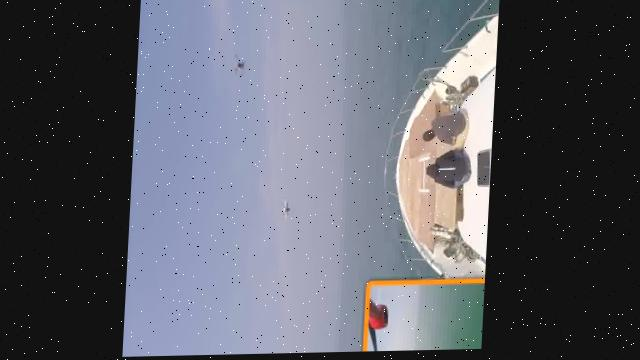drone: (229, 48, 249, 87), (276, 196, 295, 226)
